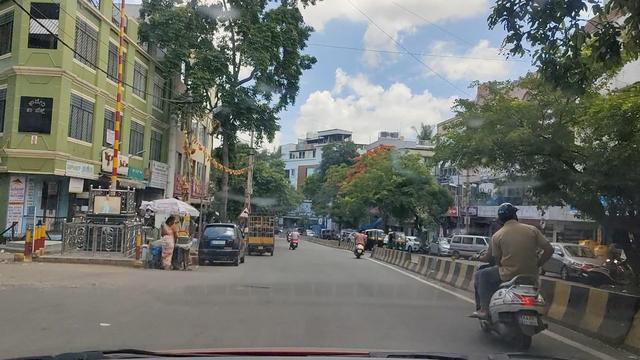LMV: (481, 214, 537, 338), (202, 226, 241, 264)
